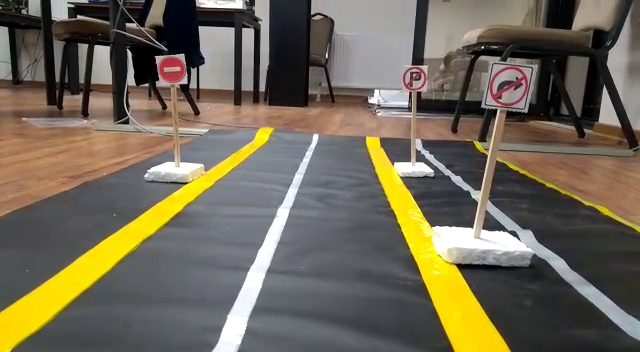girisi_olmayan_yol: (155, 53, 188, 83)
park_yapilmaz: (400, 68, 427, 91)
saga_donulmez: (483, 66, 529, 108)
